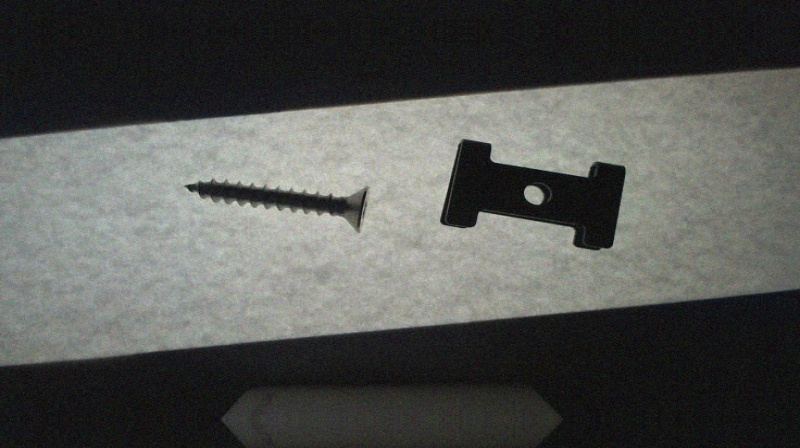O002: (442, 138, 625, 251)
S001: (184, 177, 373, 231)
